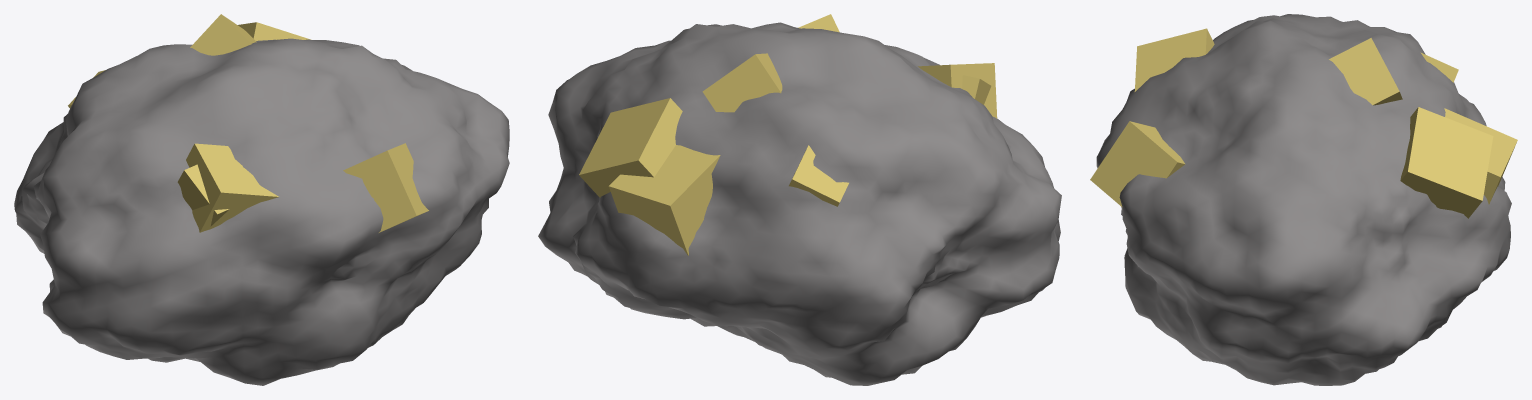
The model's file is pyrite_surface.glb.
3 renders of one model, left to right at view 1: azimuth 30°, elevation 25°; view 2: azimuth 150°, elevation 25°; view 3: azimuth 270°, elevation 25°, orthographic. The views are drawn at different scales.
Visible parts, largest first — view 1: pyrite_surface; view 2: pyrite_surface; view 3: pyrite_surface.
Boxes of the visible parts, x1=… form: pyrite_surface: x1=14, y1=14, x2=509, y2=385; pyrite_surface: x1=538, y1=14, x2=1061, y2=385; pyrite_surface: x1=1090, y1=14, x2=1517, y2=385.
Bounding box in the file's own units: 1.48 × 0.8939 × 1.16.
